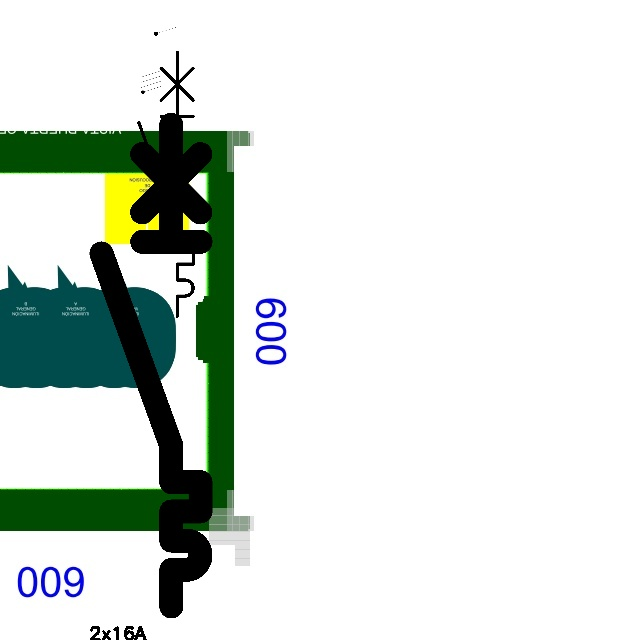interruptor_termomagnetico: (89, 112, 213, 619), (132, 45, 200, 323)
